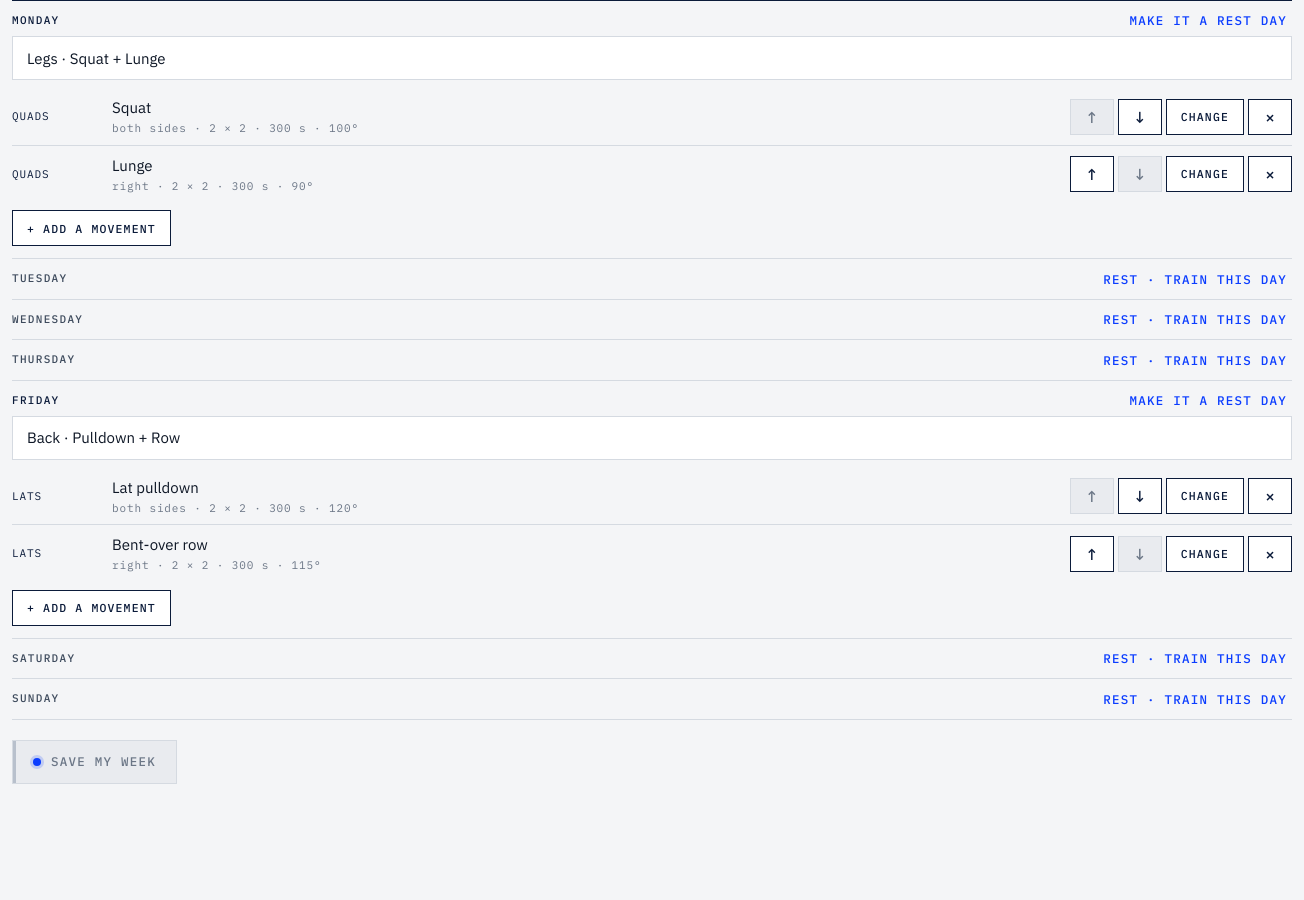
WeekEditor › will not save a training day with nothing in it
The image size is (1304, 900).
What coordinates should you click on to do the following:
click the button with aria-label "Thursday: rest day"
I would click on:
 (1195, 360)
Its box is [1098,353,1292,367].
(page scrolled)
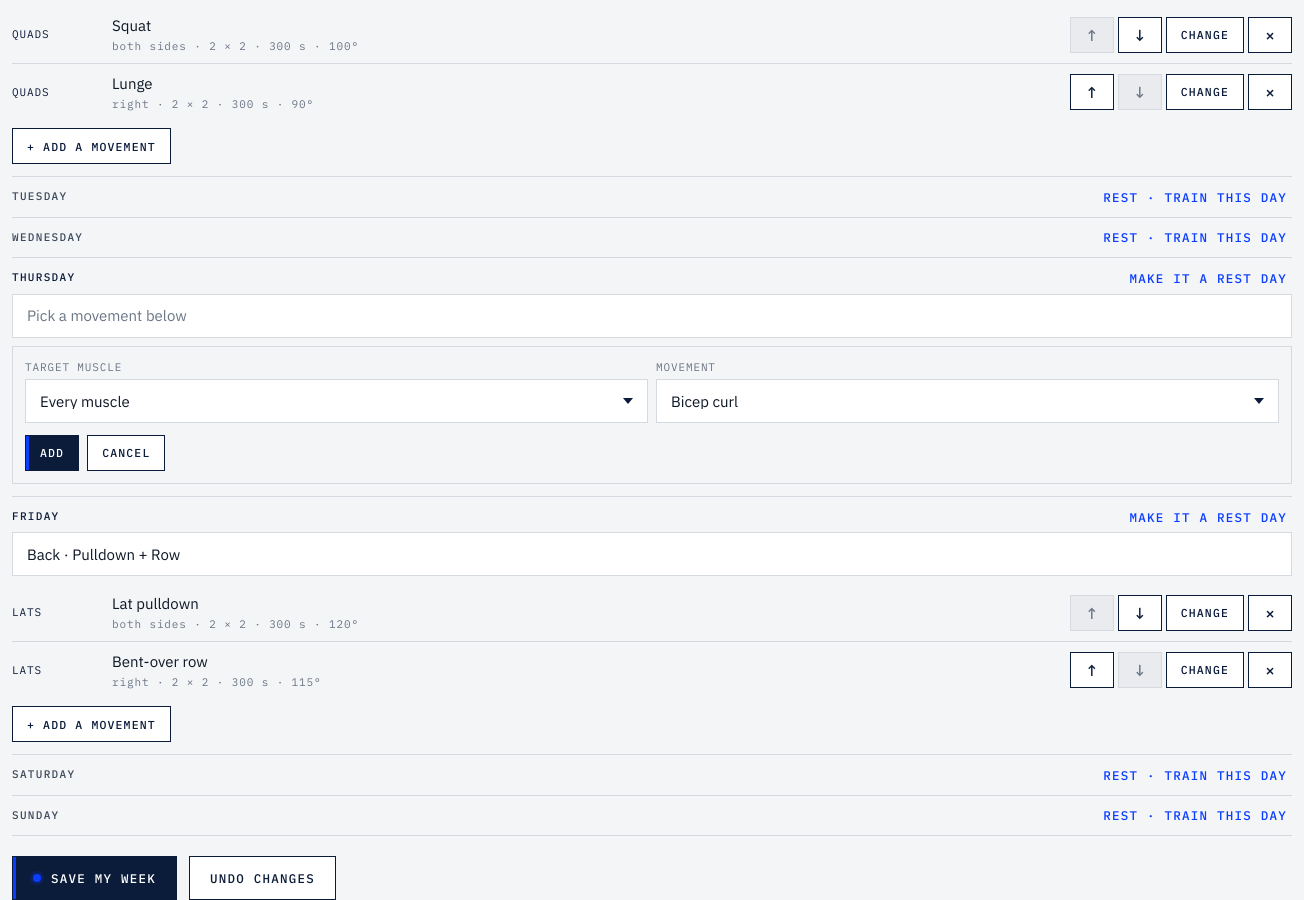
What coordinates should you click on to do the following:
click the button "Save my week"
I would click on:
 (94, 878)
Its box is [12,856,177,899].
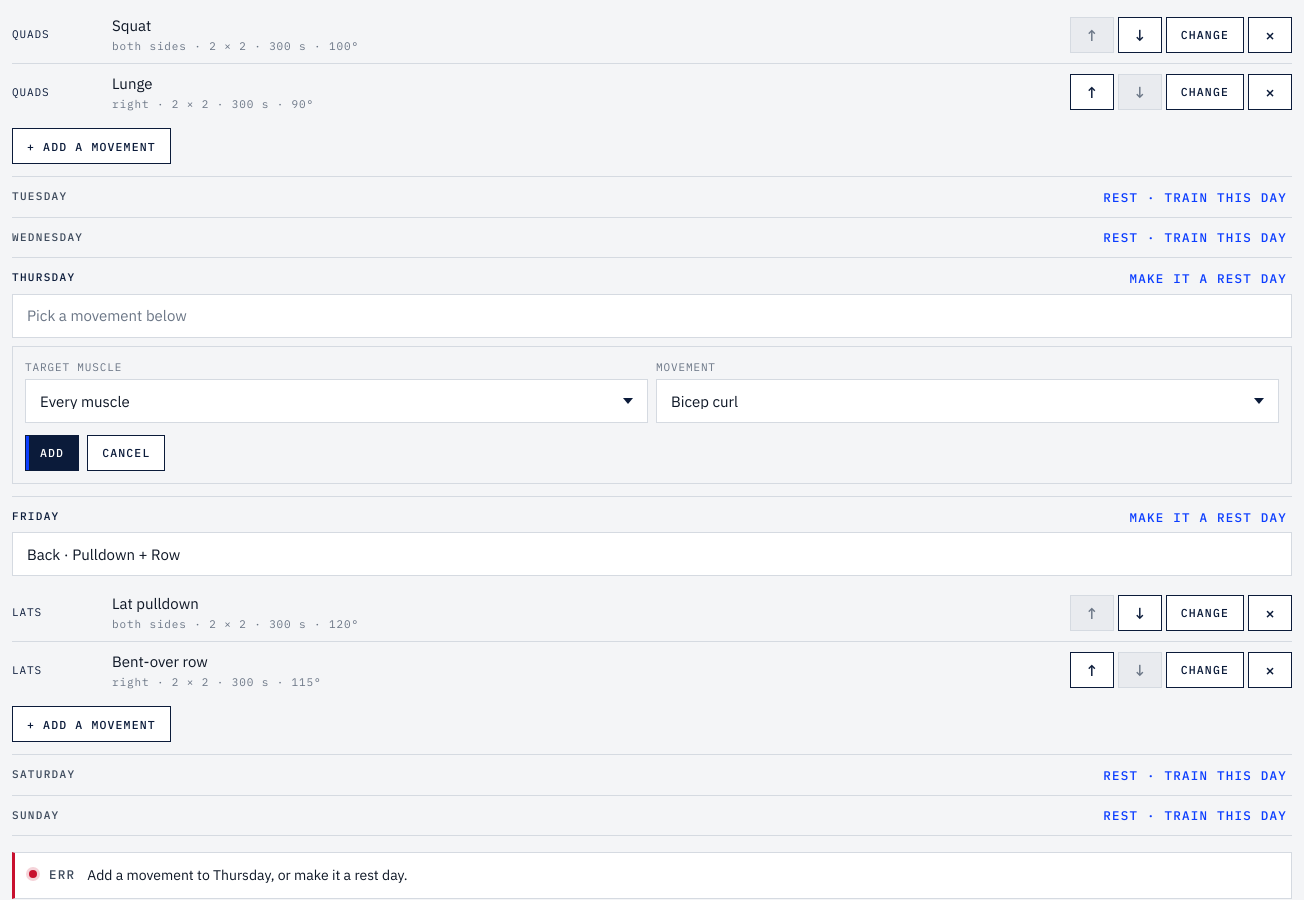
Expected: the message shows "Add a movement to Thursday, or make it a rest day.", [87,866,408,884]
